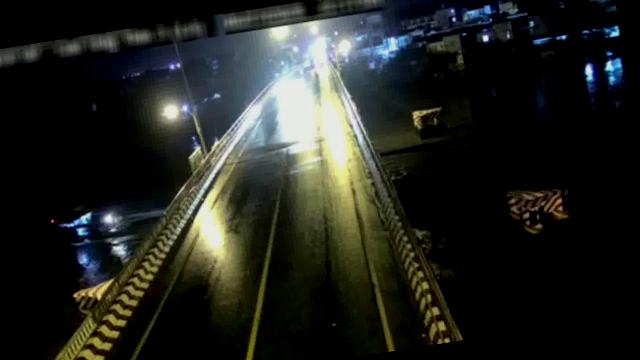Bike: (308, 68, 325, 93)
